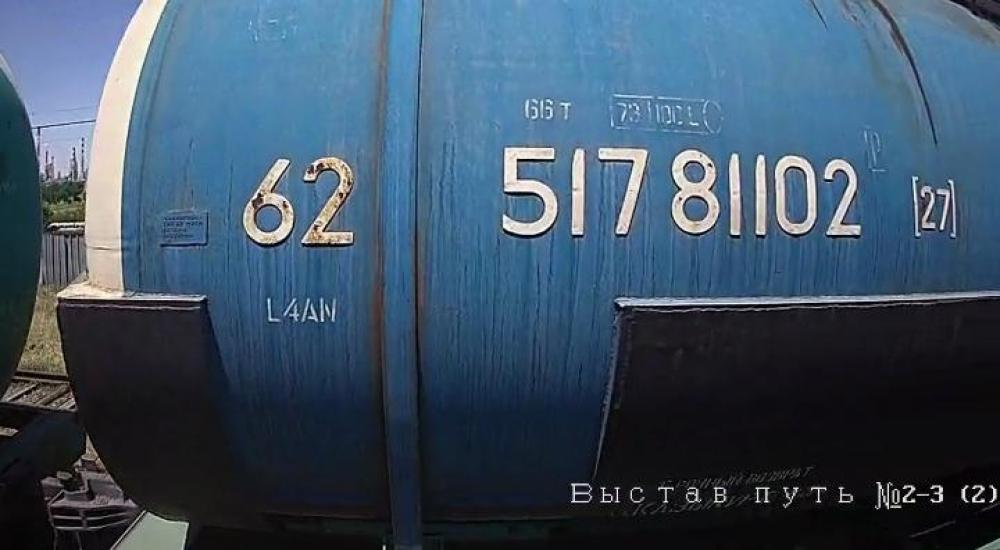Wagon-number: (492, 141, 865, 245)
